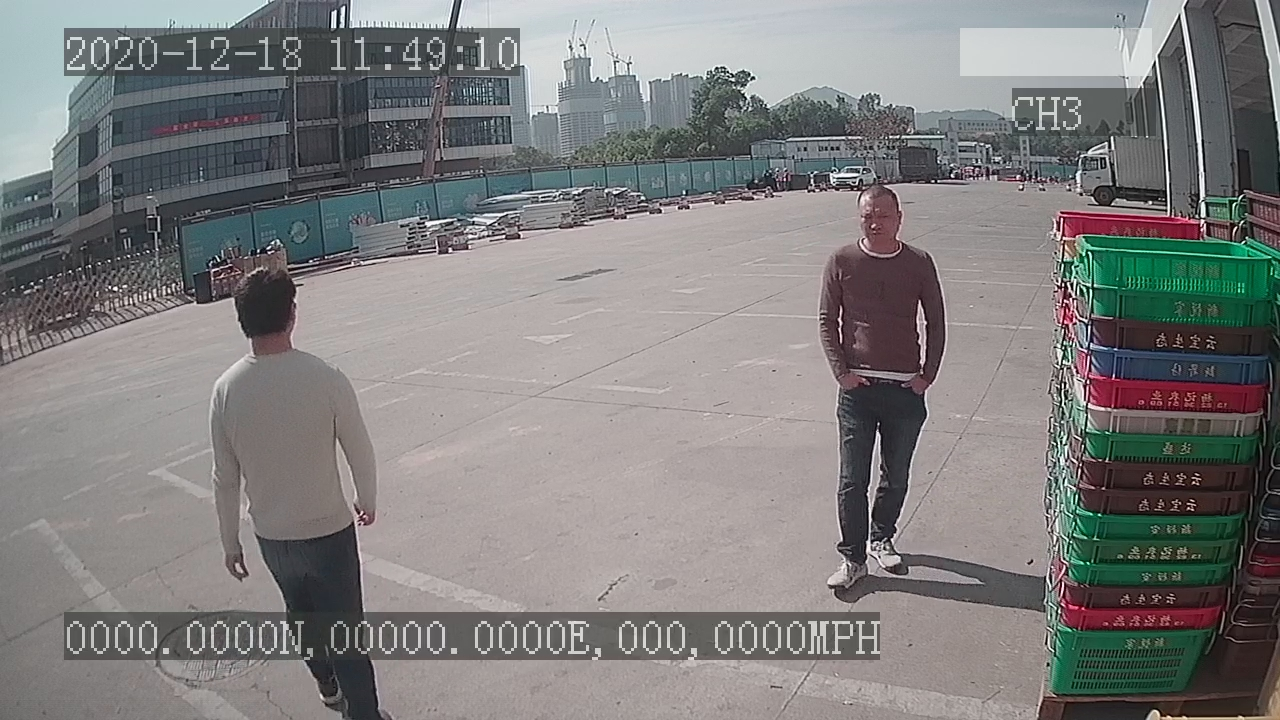person: (815, 181, 951, 595)
